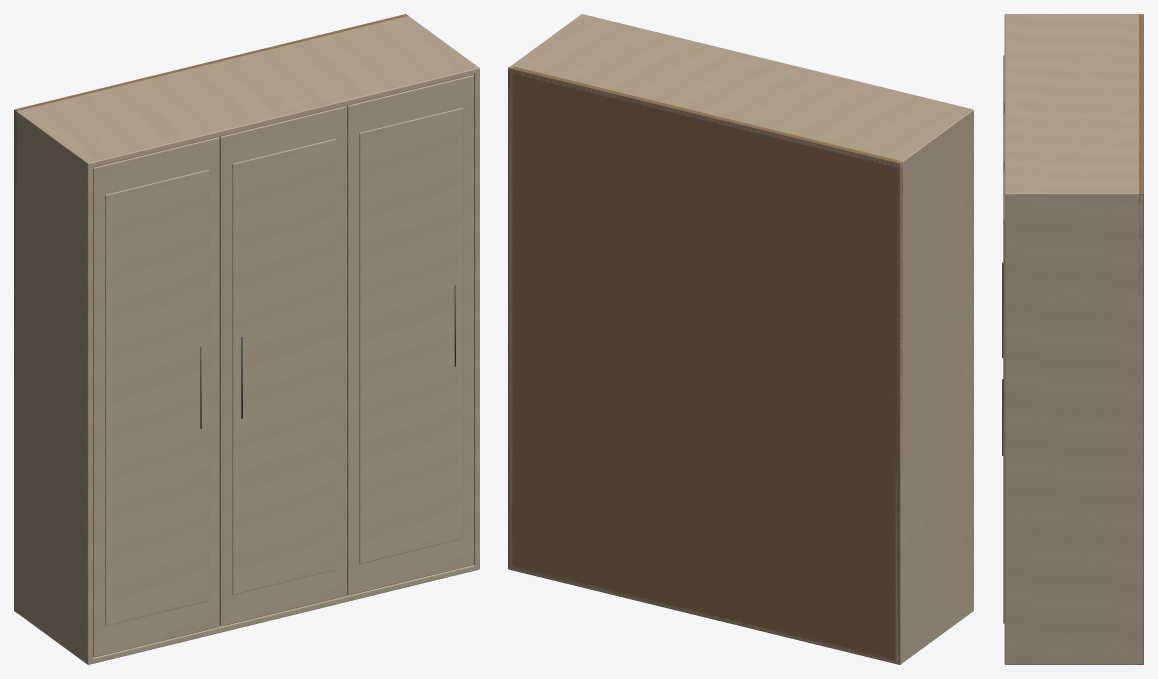
3 views of the same model, side by side, from view 1: azimuth 30°, elevation 25°; view 2: azimuth 150°, elevation 25°; view 3: azimuth 270°, elevation 25° (orthographic). The views are drawn at different scales.
Parts seen in each view (by area): view 1: door_inlay_0, door_inlay_2, door_inlay_1, side_-1, top, front_0_1, front_0_2, front_0_0, side_1, bottom, back; view 2: back, side_-1, top, side_1, bottom; view 3: side_1, top, back, door_inlay_2, side_-1.
Boxes of the visible parts, <box> form: door_inlay_0: <box>105,169,209,625</box>; door_inlay_2: <box>359,107,463,563</box>; door_inlay_1: <box>232,138,336,594</box>; side_-1: <box>14,109,92,664</box>; top: <box>21,17,479,167</box>; front_0_1: <box>219,106,346,626</box>; front_0_2: <box>346,75,473,595</box>; front_0_0: <box>93,137,219,657</box>; side_1: <box>404,14,479,570</box>; bottom: <box>14,565,479,664</box>; back: <box>14,14,408,612</box>; back: <box>508,66,902,664</box>; side_-1: <box>895,108,973,663</box>; top: <box>510,15,973,167</box>; side_1: <box>508,14,585,568</box>; bottom: <box>508,565,973,663</box>; side_1: <box>1004,191,1142,664</box>; top: <box>1004,16,1138,197</box>; back: <box>1138,14,1143,664</box>; door_inlay_2: <box>1003,171,1004,623</box>; side_-1: <box>1004,14,1142,15</box>.
Size of the model in its own units: 1.8 by 2.2 by 0.6.
3 materials, 2 textured.
